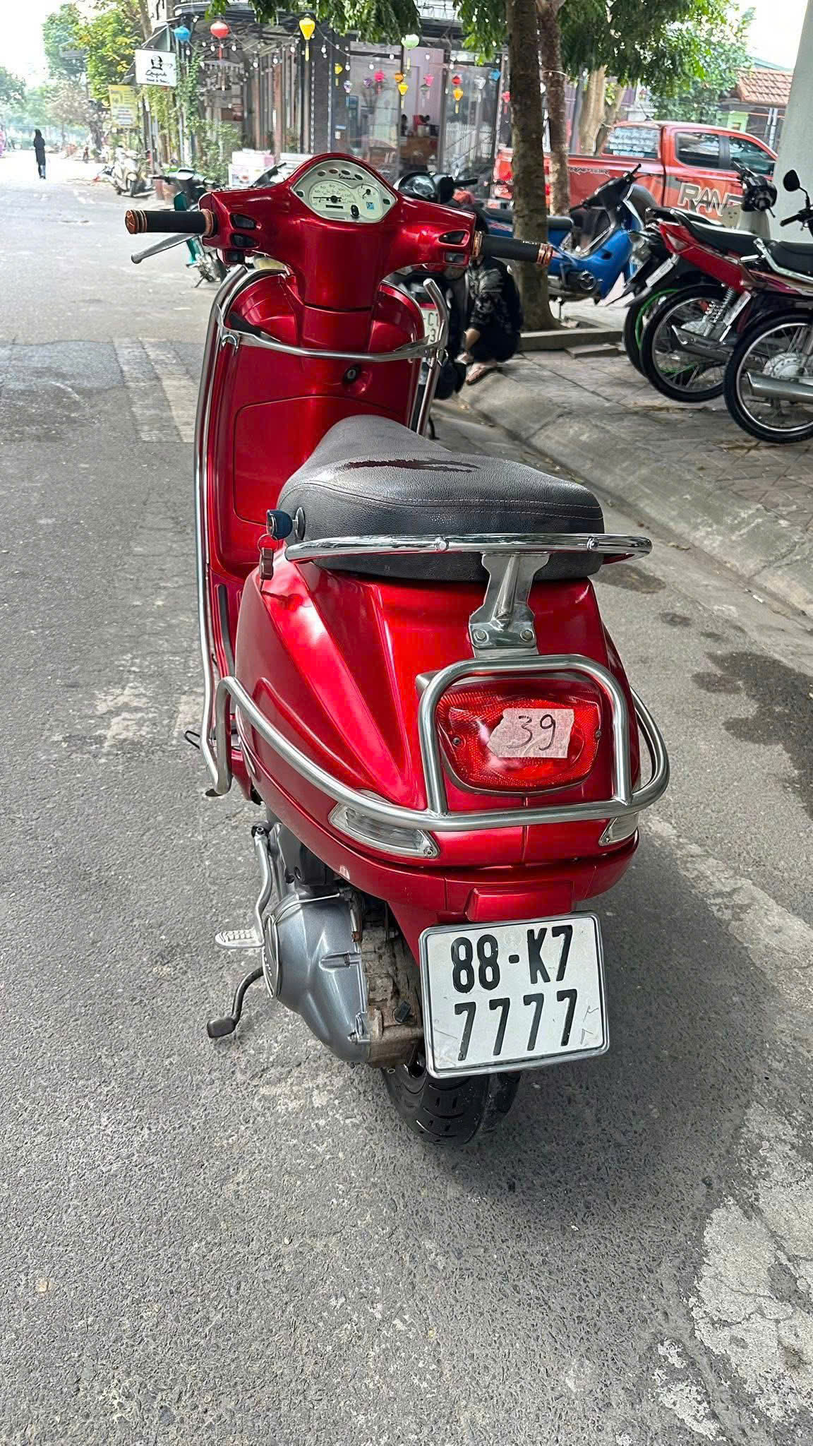Bien-so: (423, 915, 612, 1080)
